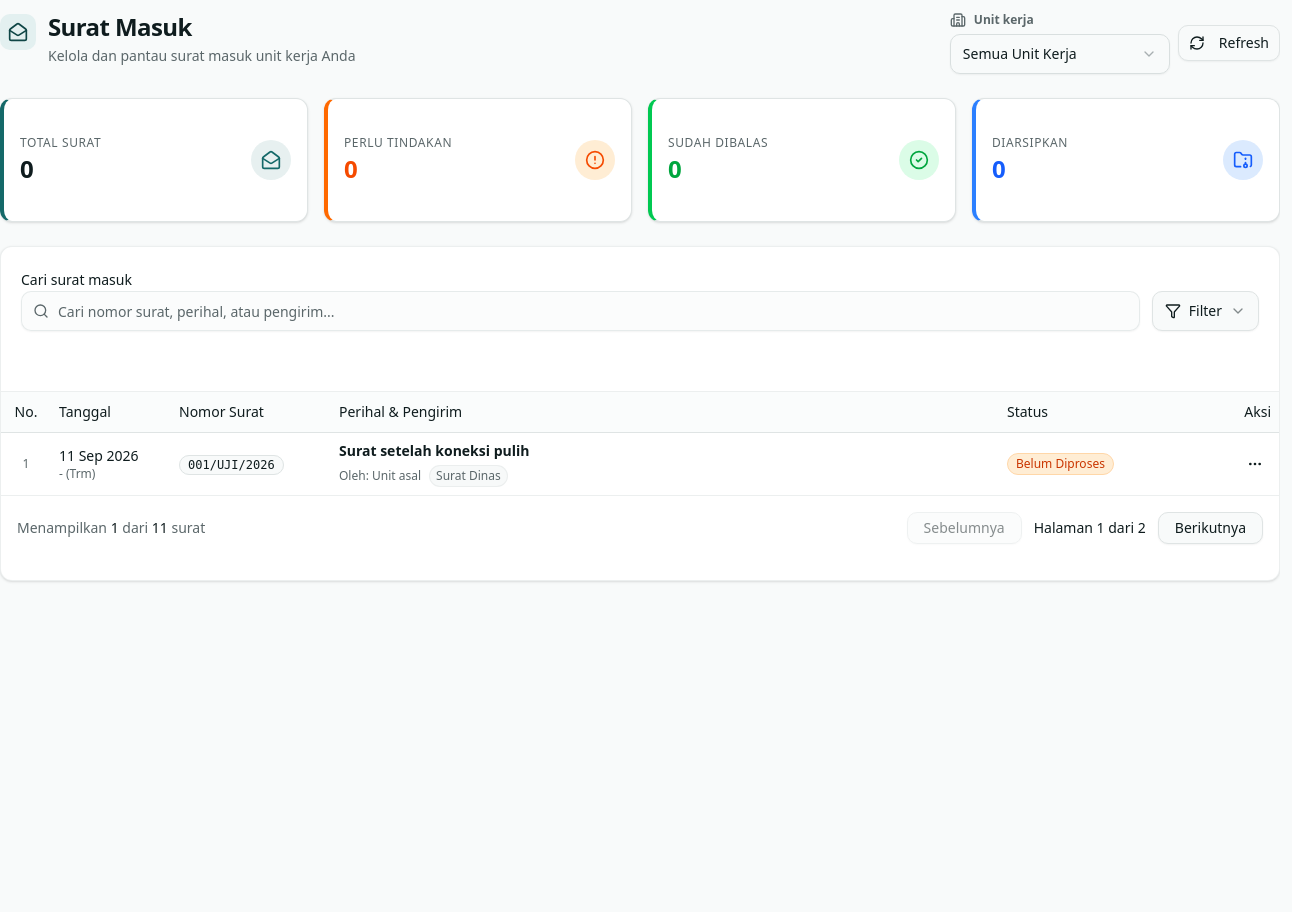
persistent masuk list feedback › hides old rows and pagination after refresh fails, then shows a successful empty result
This screenshot has width=1292, height=912.
Expected: the text "Surat setelah koneksi pulih" is shown, [339, 440, 530, 460]
Click the button "Refresh". click: x=1229, y=43
box: [1178, 25, 1280, 61]
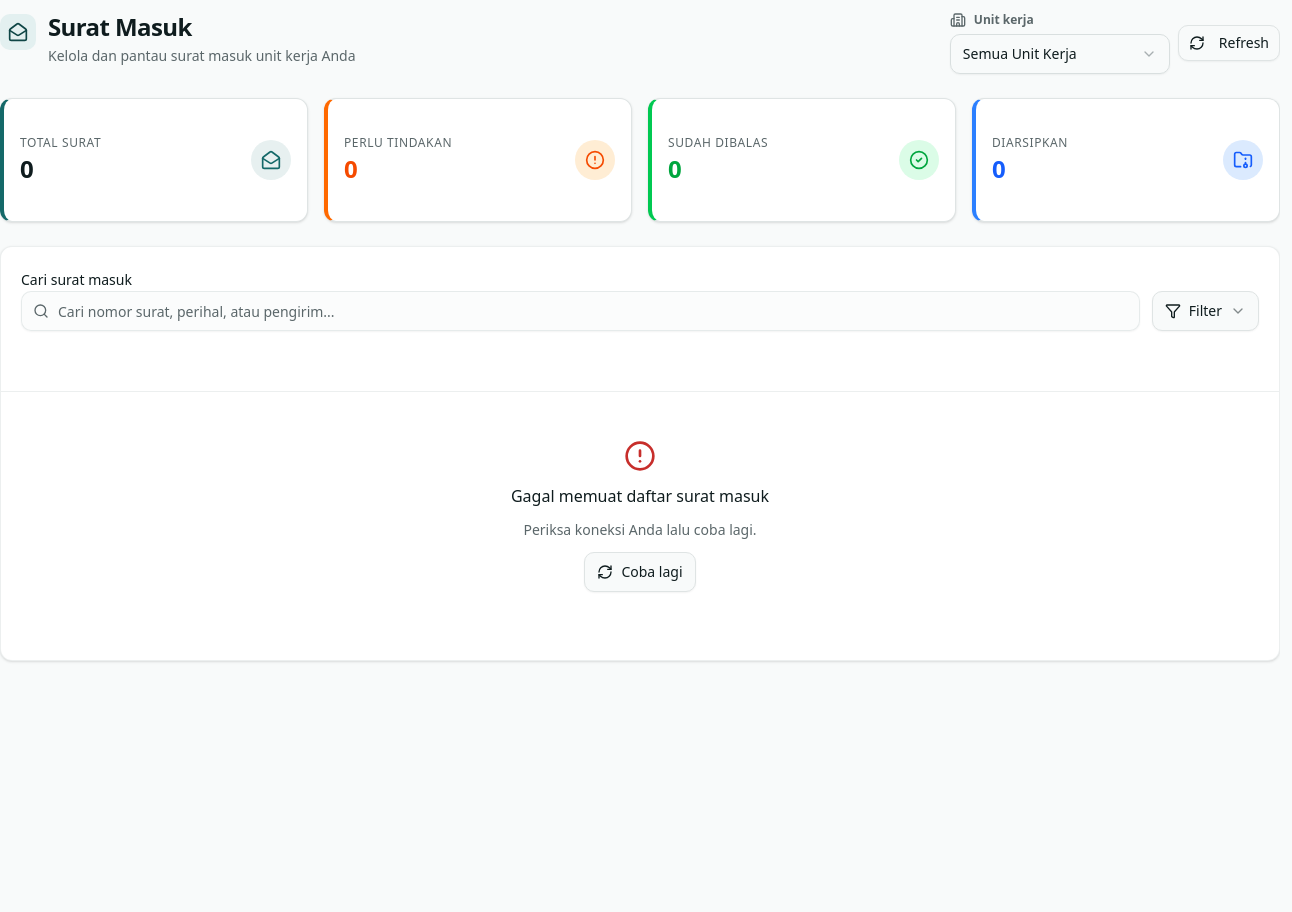
Expected: the message "Gagal memuat daftar surat masuk Periksa koneksi Anda lalu coba lagi. Coba lagi" is shown, [511, 440, 769, 592]
Expected: the text "Surat setelah koneksi pulih" is gone
Expected: the navigation bar "pagination" is gone
Click the button "Coba lagi". click: x=640, y=572
box: [584, 552, 696, 592]
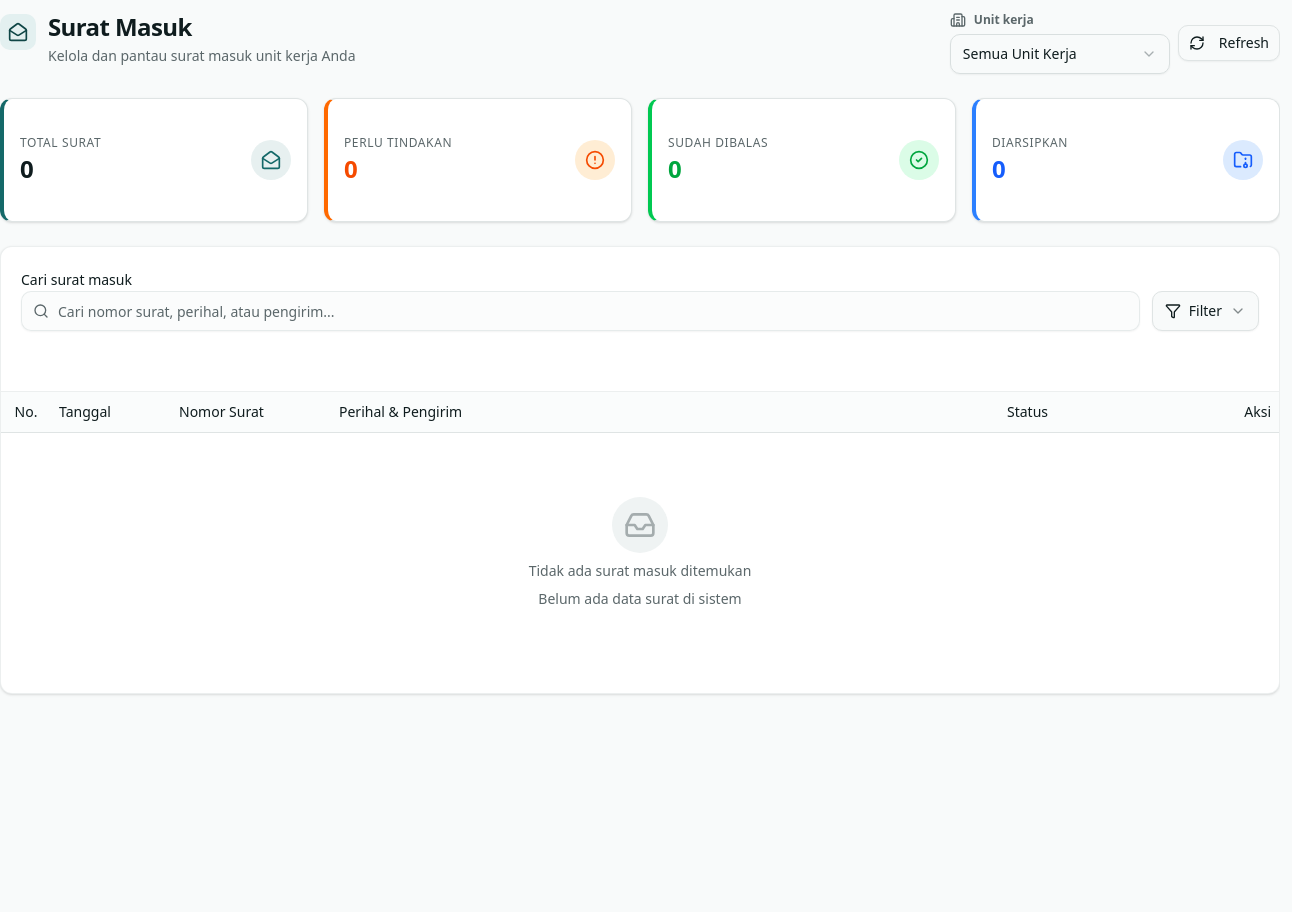
Expected: the text "Tidak ada surat masuk ditemukan" is shown, [529, 560, 751, 580]
Expected: the message "Gagal memuat daftar surat masuk Periksa koneksi Anda lalu coba lagi. Coba lagi" is gone
